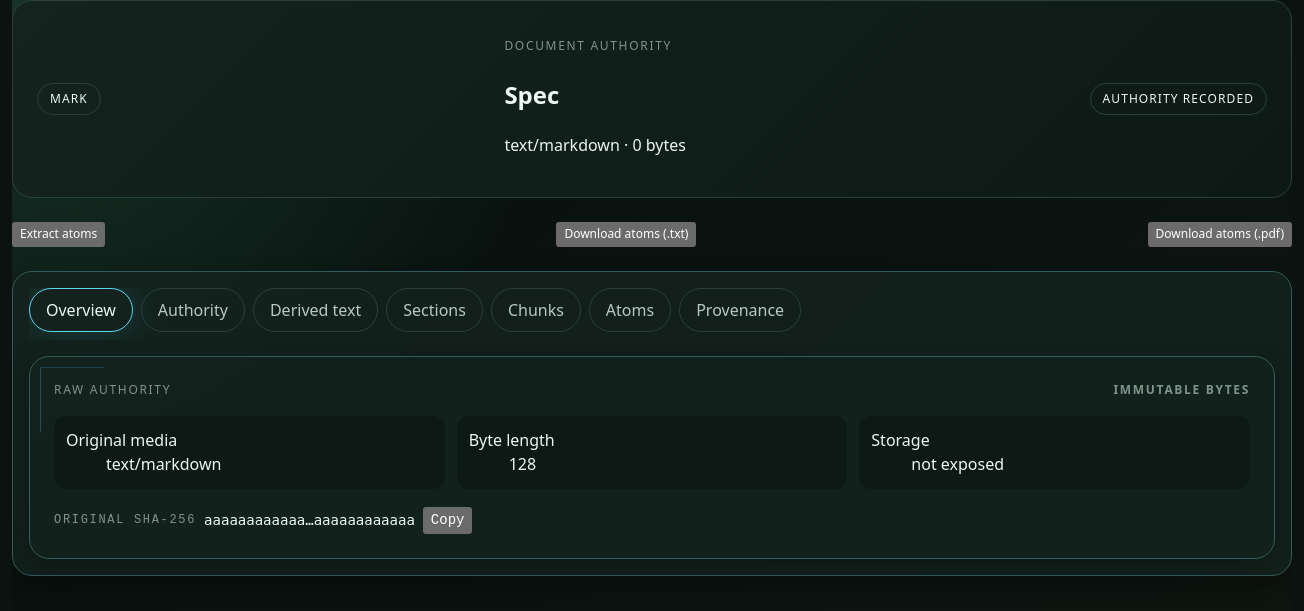
Test: source workspace › reports the real atom count on a successful extraction
Expected: the heading "Spec" is shown, [504, 78, 559, 110]
Click the button "Extract atoms" at [59, 235], box [12, 222, 105, 247]
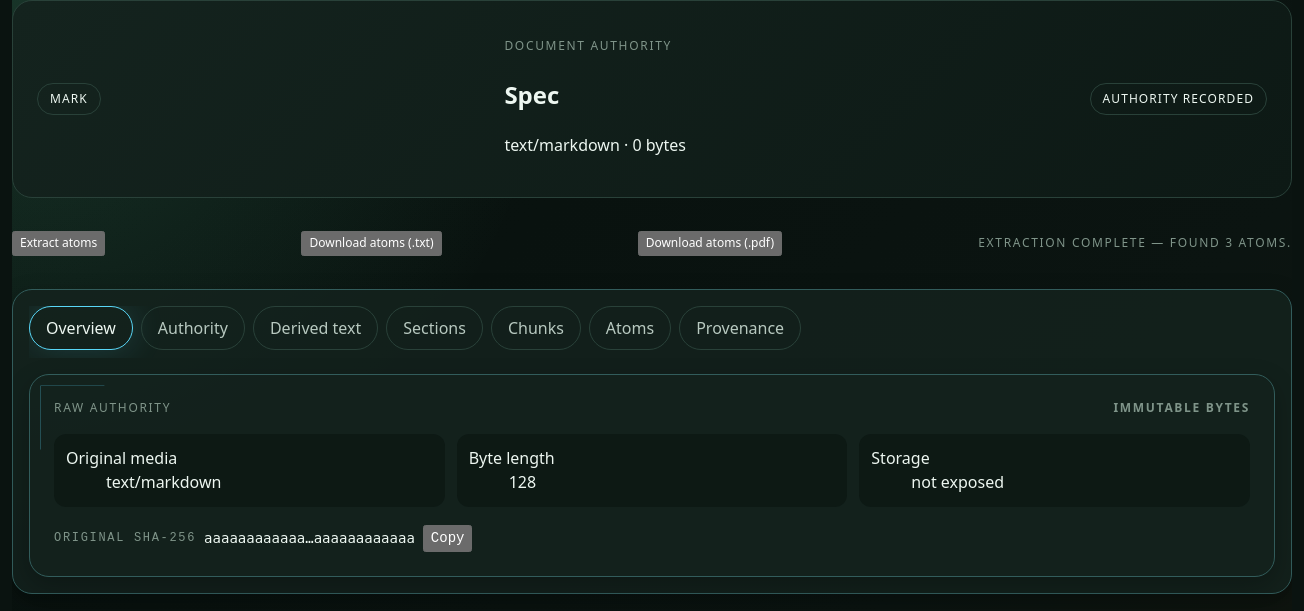
Expected: the text "Extraction complete — found 3 atoms." is shown, [978, 234, 1292, 253]
